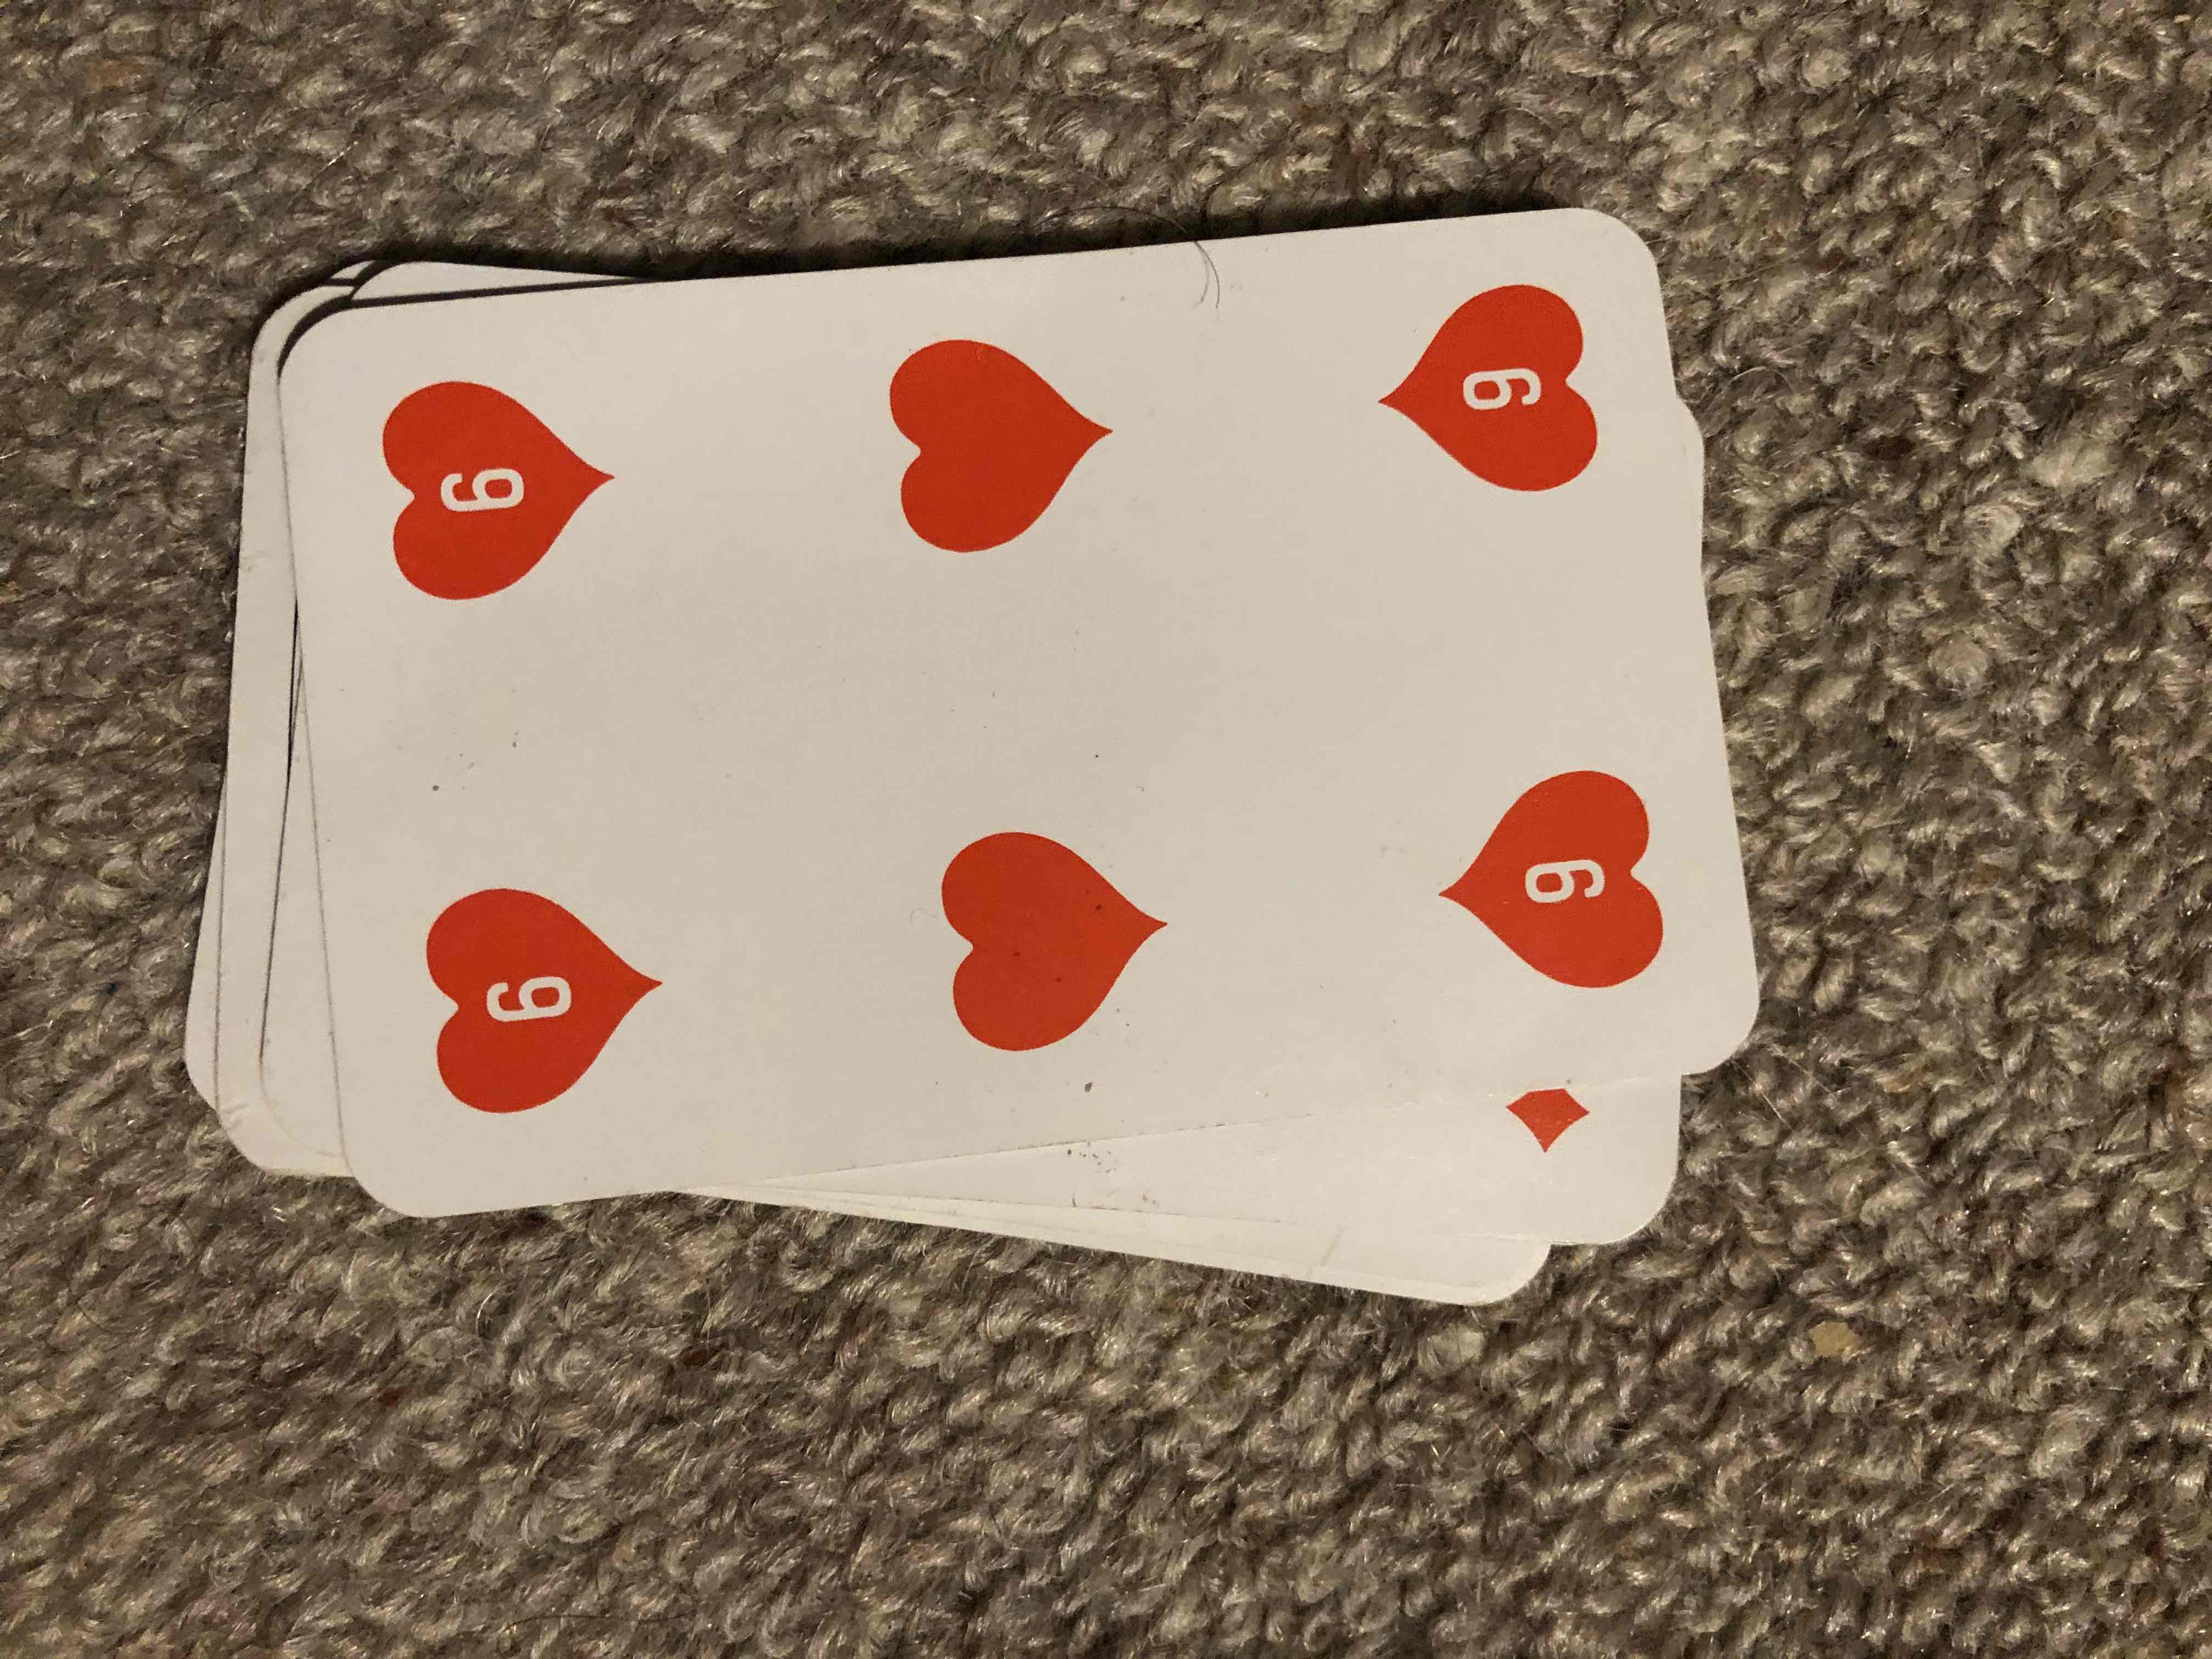hearts6: (277, 242, 1784, 1091)
